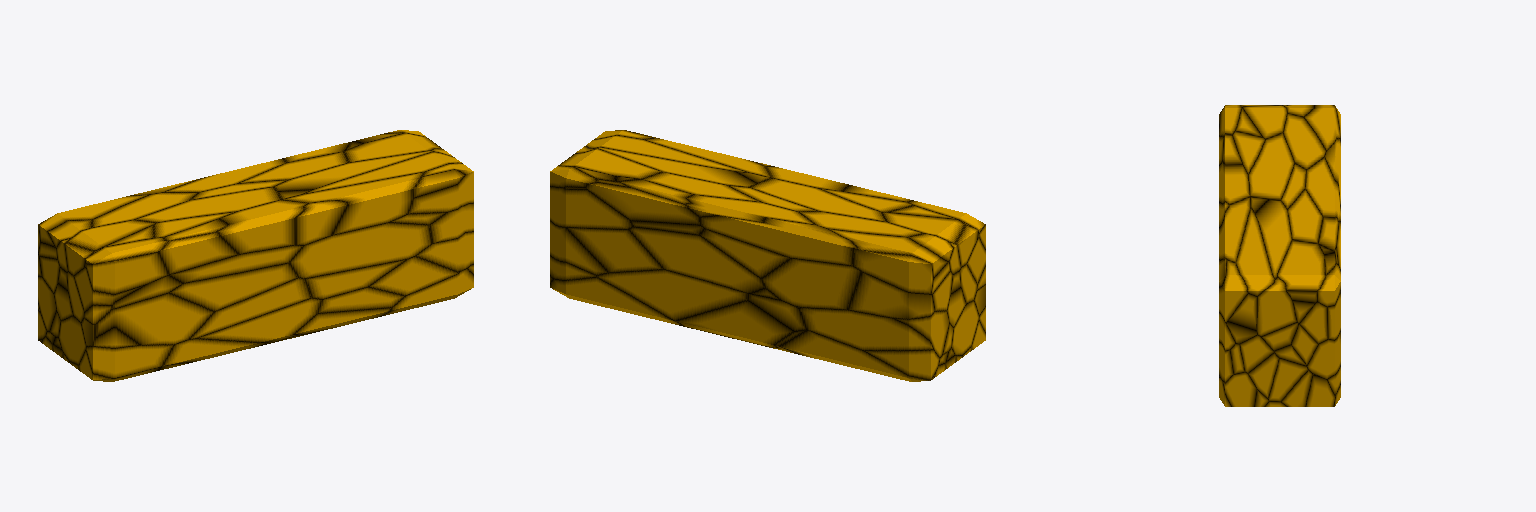
The picture shows the model from 3 angles: view 1: azimuth 30°, elevation 25°; view 2: azimuth 150°, elevation 25°; view 3: azimuth 270°, elevation 25°; orthographic projection.
Parts seen in each view (by area): view 1: Cube_Paddle; view 2: Cube_Paddle; view 3: Cube_Paddle.
Boxes of the visible parts, x1,y1,x2,y2 form: Cube_Paddle: [38, 130, 473, 381]; Cube_Paddle: [550, 130, 985, 381]; Cube_Paddle: [1219, 105, 1340, 406].
Bounding box in the file's own units: 7.25 × 2.34 × 2.
1 materials, 1 textured.